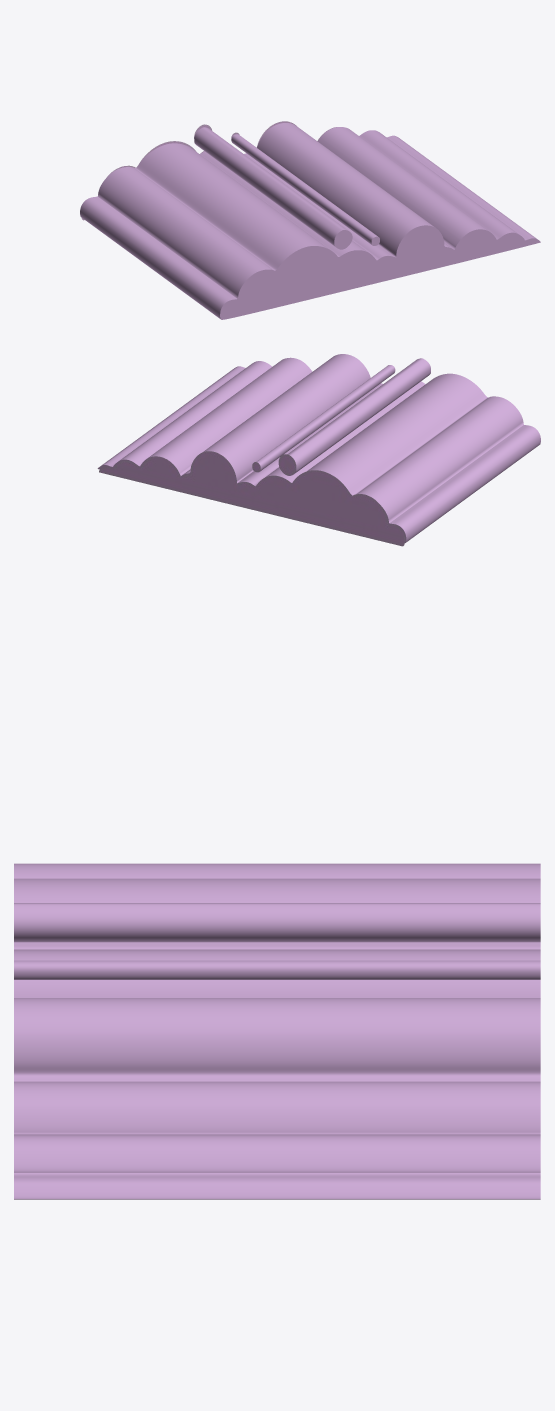
Rendered from cloud2_3D_test.fbx.
3 renders of one model, top to bottom at view 1: azimuth 30°, elevation 25°; view 2: azimuth 150°, elevation 25°; view 3: azimuth 270°, elevation 25°, orthographic. The views are drawn at different scales.
Visible parts, largest first — view 1: path7, cloud2_rmvbg; view 2: path7, cloud2_rmvbg; view 3: path7.
Part boxes in pixels (bbox=[...]): path7: bbox=[80, 123, 540, 319]; cloud2_rmvbg: bbox=[81, 121, 336, 220]; path7: bbox=[97, 354, 540, 542]; cloud2_rmvbg: bbox=[99, 451, 405, 546]; path7: bbox=[14, 863, 540, 1199].
Size of the model in its own units: 9.76 by 3.29 by 5.
